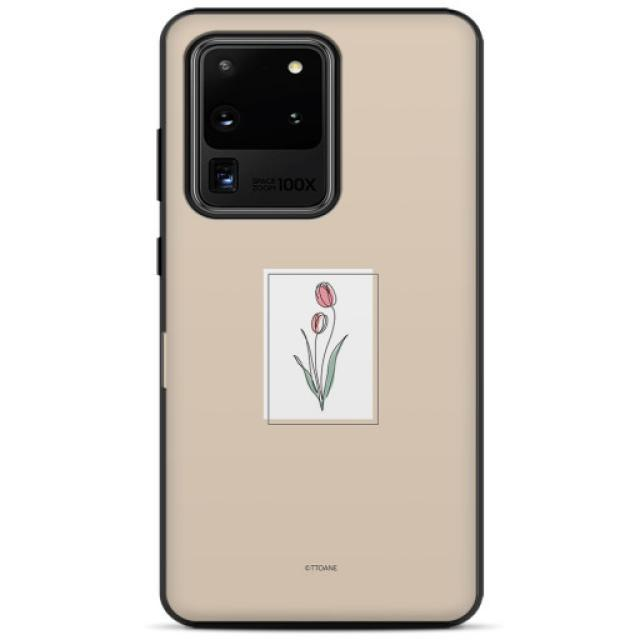phone: (152, 4, 486, 628)
